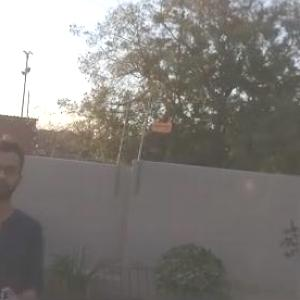follow: (0, 128, 50, 299)
